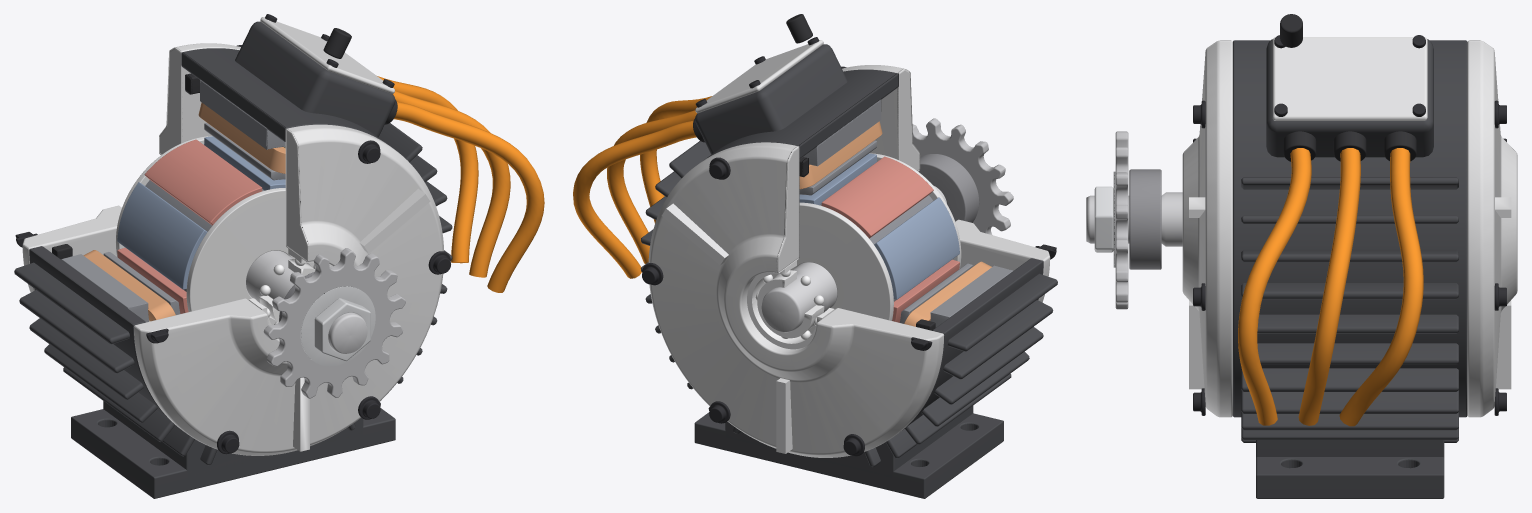
File: motor.glb
3 views of the same model, side by side, from view 1: azimuth 30°, elevation 25°; view 2: azimuth 150°, elevation 25°; view 3: azimuth 270°, elevation 25° (orthographic). The views are drawn at different scales.
Visible parts, largest first — view 1: motor__endcap_left, motor__cooling_fins, motor__phase_cables, motor__mount_foot, motor__sprocket, motor__housing, motor__rotor_endplate_left, motor__terminal_box, motor__magnets_south, motor__magnets_north, motor__endcap_right, motor__stator (+10 smaller); view 2: motor__endcap_right, motor__cooling_fins, motor__mount_foot, motor__phase_cables, motor__housing, motor__rotor_endplate_right, motor__terminal_box, motor__magnets_south, motor__magnets_north, motor__endcap_left, motor__stator, motor__sprocket (+9 smaller); view 3: motor__housing, motor__cooling_fins, motor__phase_cables, motor__endcap_right, motor__endcap_left, motor__terminal_lid, motor__mount_foot, motor__terminal_box, motor__sprocket_hub, motor__sprocket, motor__cable_glands, motor__shaft (+7 smaller).
Boxes of the visible parts, left/top/right/bottom form: motor__endcap_left: left=134, top=124, right=443, bottom=455; motor__cooling_fins: left=14, top=123, right=452, bottom=465; motor__phase_cables: left=377, top=76, right=544, bottom=292; motor__mount_foot: left=71, top=401, right=395, bottom=498; motor__sprocket: left=263, top=248, right=405, bottom=398; motor__housing: left=29, top=48, right=386, bottom=427; motor__rotor_endplate_left: left=186, top=188, right=314, bottom=324; motor__terminal_box: left=235, top=21, right=395, bottom=137; motor__magnets_south: left=117, top=136, right=285, bottom=289; motor__magnets_north: left=117, top=139, right=262, bottom=313; motor__endcap_right: left=22, top=43, right=240, bottom=292; motor__stator: left=61, top=79, right=285, bottom=322; motor__endcap_right: left=648, top=142, right=944, bottom=457; motor__cooling_fins: left=640, top=141, right=1057, bottom=466; motor__mount_foot: left=694, top=406, right=1003, bottom=498; motor__phase_cables: left=573, top=96, right=711, bottom=278; motor__housing: left=703, top=69, right=1043, bottom=431; motor__rotor_endplate_right: left=771, top=202, right=893, bottom=333; motor__terminal_box: left=695, top=44, right=847, bottom=154; motor__magnets_south: left=799, top=153, right=959, bottom=299; motor__magnets_north: left=821, top=156, right=959, bottom=322; motor__endcap_left: left=842, top=65, right=1050, bottom=302; motor__stator: left=799, top=99, right=1012, bottom=327; motor__sprocket: left=912, top=118, right=1013, bottom=234; motor__housing: left=1233, top=40, right=1467, bottom=417; motor__cooling_fins: left=1241, top=177, right=1458, bottom=442; motor__phase_cables: left=1238, top=148, right=1423, bottom=426; motor__endcap_right: left=1467, top=40, right=1517, bottom=417; motor__endcap_left: left=1182, top=40, right=1232, bottom=417; motor__terminal_lid: left=1272, top=37, right=1427, bottom=120; motor__mount_foot: left=1256, top=440, right=1444, bottom=498; motor__terminal_box: left=1266, top=39, right=1433, bottom=157; motor__sprocket_hub: left=1129, top=169, right=1161, bottom=269; motor__sprocket: left=1115, top=131, right=1128, bottom=309; motor__cable_glands: left=1283, top=131, right=1416, bottom=161; motor__shaft: left=1086, top=192, right=1182, bottom=246.
Bounding box in the file's own units: 27.09 × 24.3 × 20.6.
